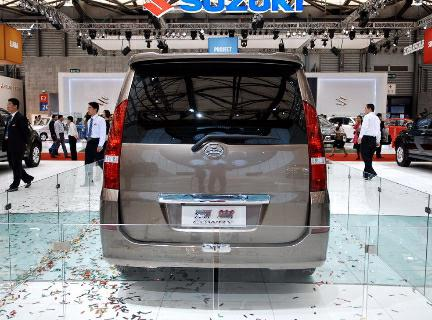长城-嘉誉: (93, 47, 336, 278)
